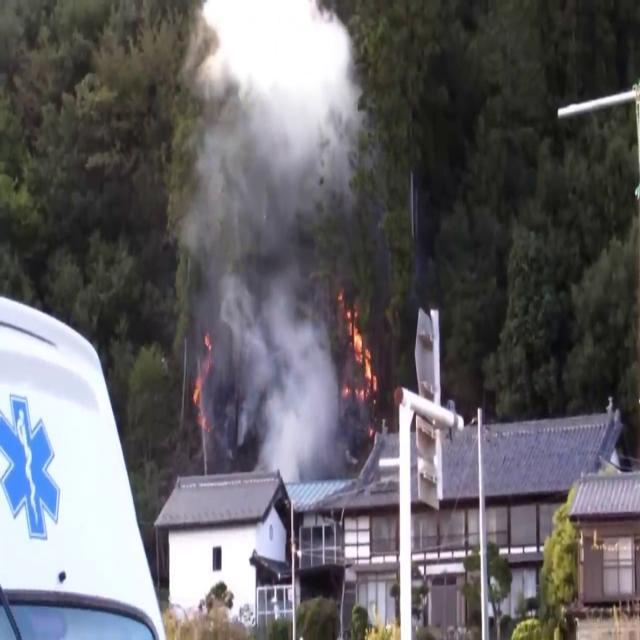Fire: (343, 302, 381, 409)
Smoke: (168, 0, 376, 490)
